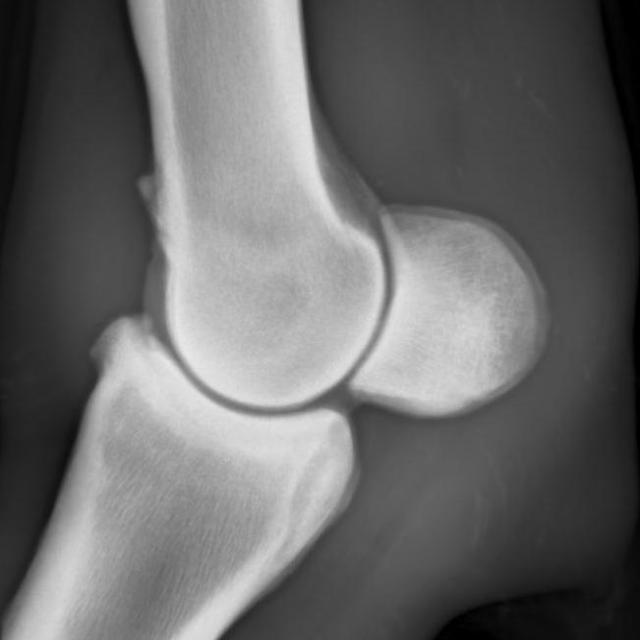bone remodeling: (111, 142, 203, 246), (77, 282, 154, 390)
